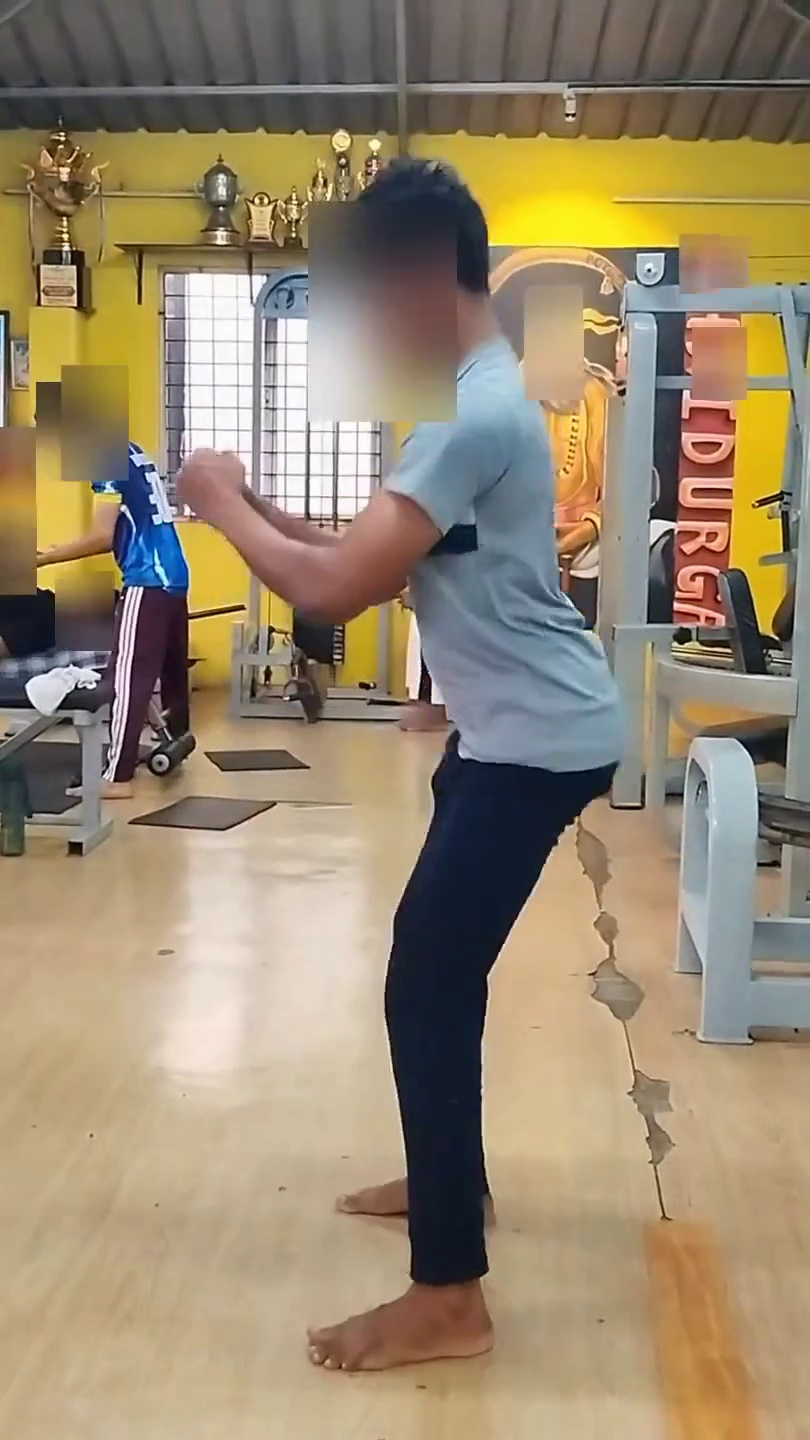squat_correct: (87, 187, 632, 1417)
